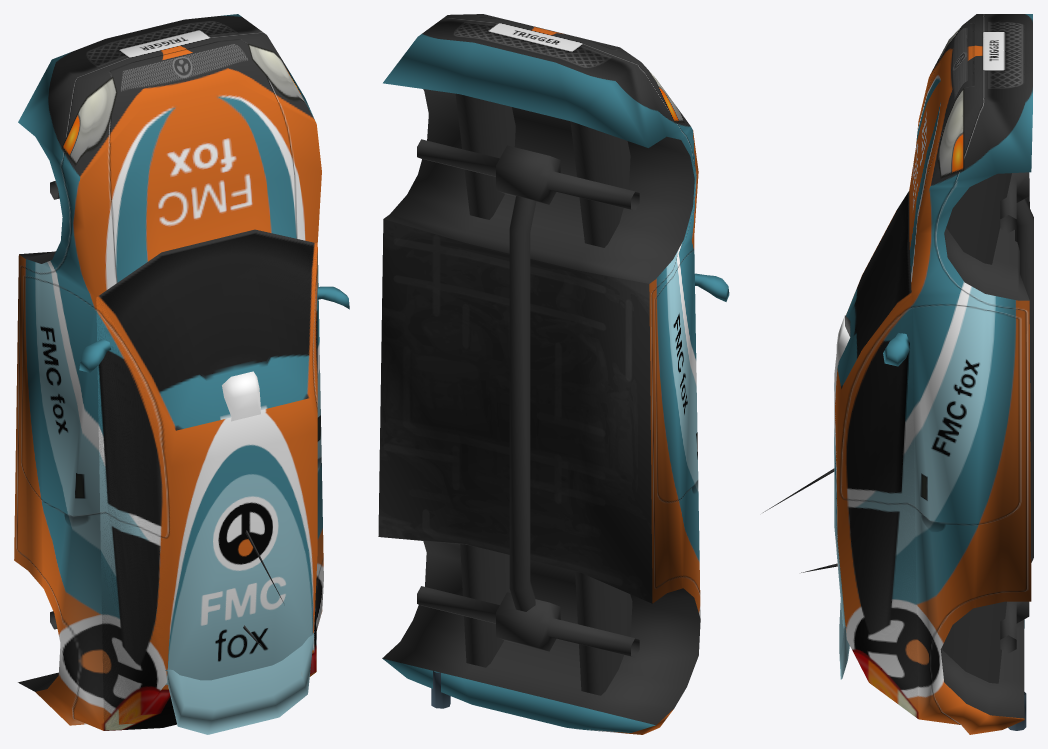
The model's file is fox_kitcar.obj.
3 renders of one model, left to right at view 1: azimuth 30°, elevation 25°; view 2: azimuth 150°, elevation 25°; view 3: azimuth 270°, elevation 25°, orthographic. The views are drawn at different scales.
Parts seen in each view (by area): view 1: body_Box01; view 2: body_Box01; view 3: body_Box01.
Boxes of the visible parts, x1=… form: body_Box01: x1=14, y1=14, x2=349, y2=734; body_Box01: x1=378, y1=14, x2=729, y2=734; body_Box01: x1=763, y1=14, x2=1033, y2=734.
Size of the model in its own units: 1.77 by 4.15 by 1.61.
Materials: 2 (2 with a texture image).
